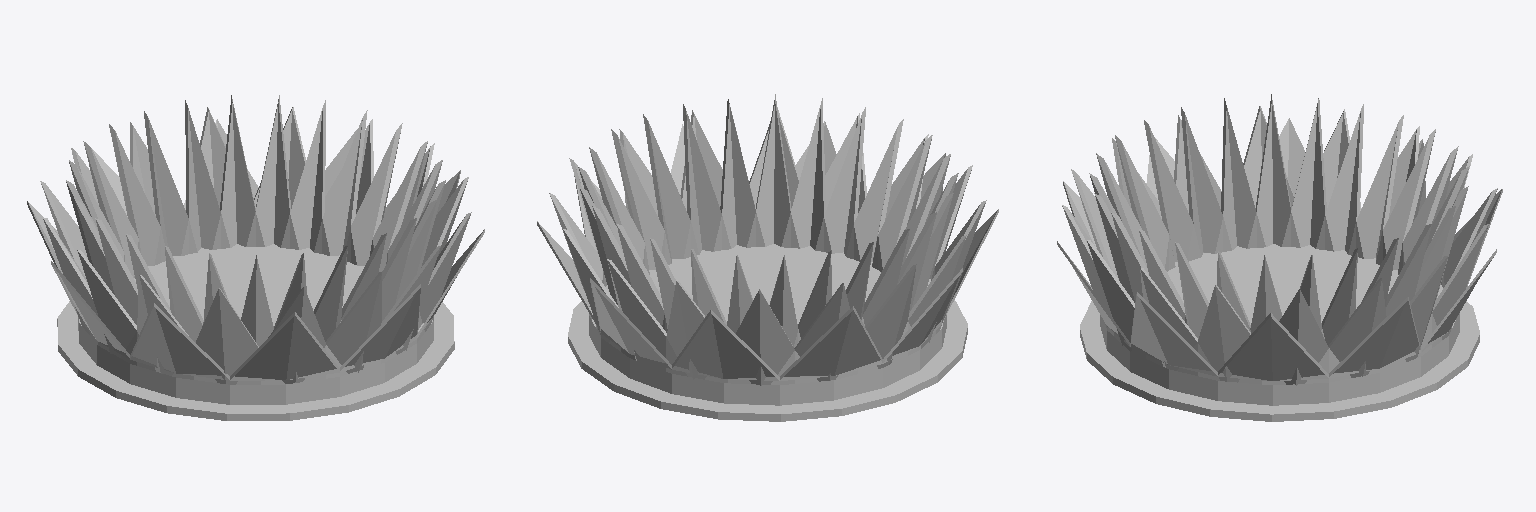
File: portal_abrir_000042.obj
The picture shows the model from 3 angles: view 1: azimuth 30°, elevation 25°; view 2: azimuth 150°, elevation 25°; view 3: azimuth 270°, elevation 25°; orthographic projection.
Visible parts, largest first — view 1: Cylinder.001, pCylinder1, Cylinder; view 2: Cylinder.001, pCylinder1, Cylinder; view 3: Cylinder.001, pCylinder1, Cylinder.
Part boxes in pixels (left/top/right/bottom): Cylinder.001: left=66, top=95, right=445, bottom=346; pCylinder1: left=27, top=119, right=484, bottom=420; Cylinder: left=40, top=107, right=471, bottom=384; Cylinder.001: left=578, top=94, right=958, bottom=347; pCylinder1: left=537, top=121, right=998, bottom=421; Cylinder: left=549, top=107, right=986, bottom=385; Cylinder.001: left=1089, top=94, right=1469, bottom=345; pCylinder1: left=1057, top=118, right=1502, bottom=421; Cylinder: left=1062, top=106, right=1497, bottom=385.
Bounding box in the file's own units: 7.15 × 2.78 × 6.89.